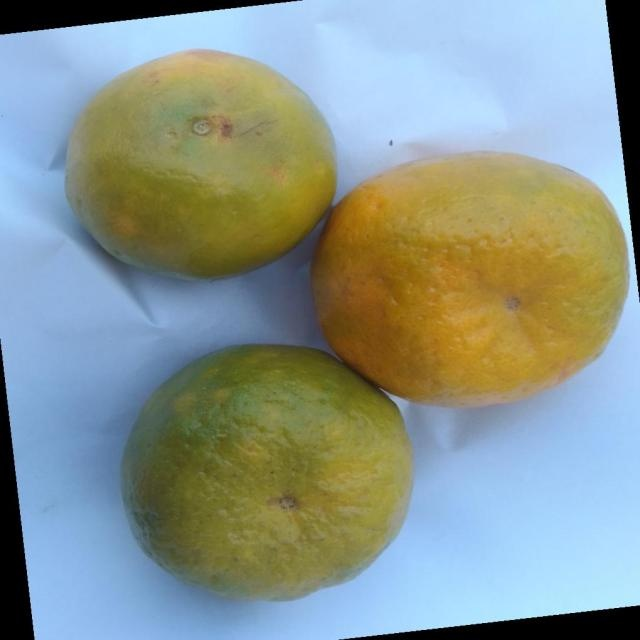agrume: (309, 149, 630, 408), (119, 341, 414, 603), (62, 47, 338, 281)
